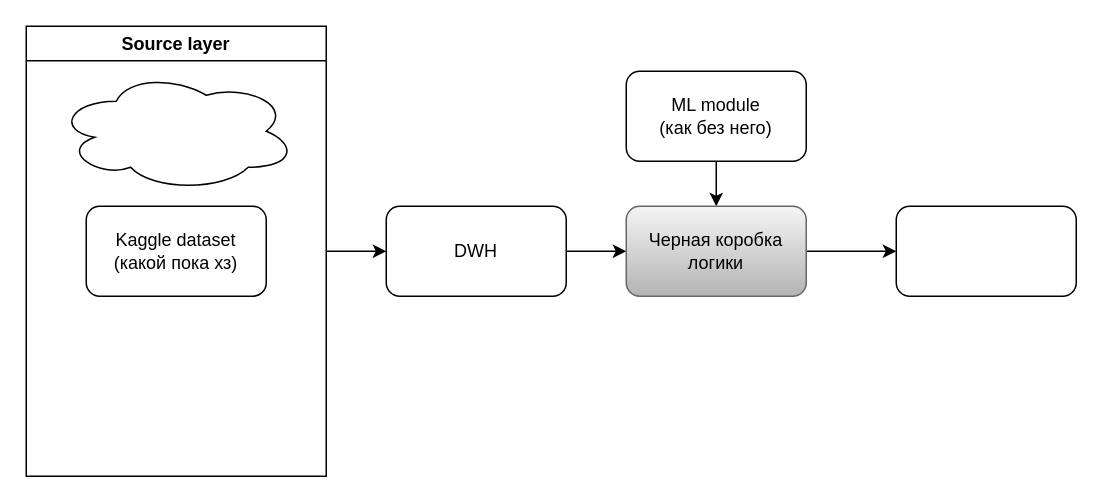
Some shapes in this 1103 by 503 pixel diagram are drawn without their labels. The centre of each missing label's shape, as x and y in pixels:
"Answer" goes at (x=985, y=250).
"Telegram messages" goes at (x=175, y=130).
